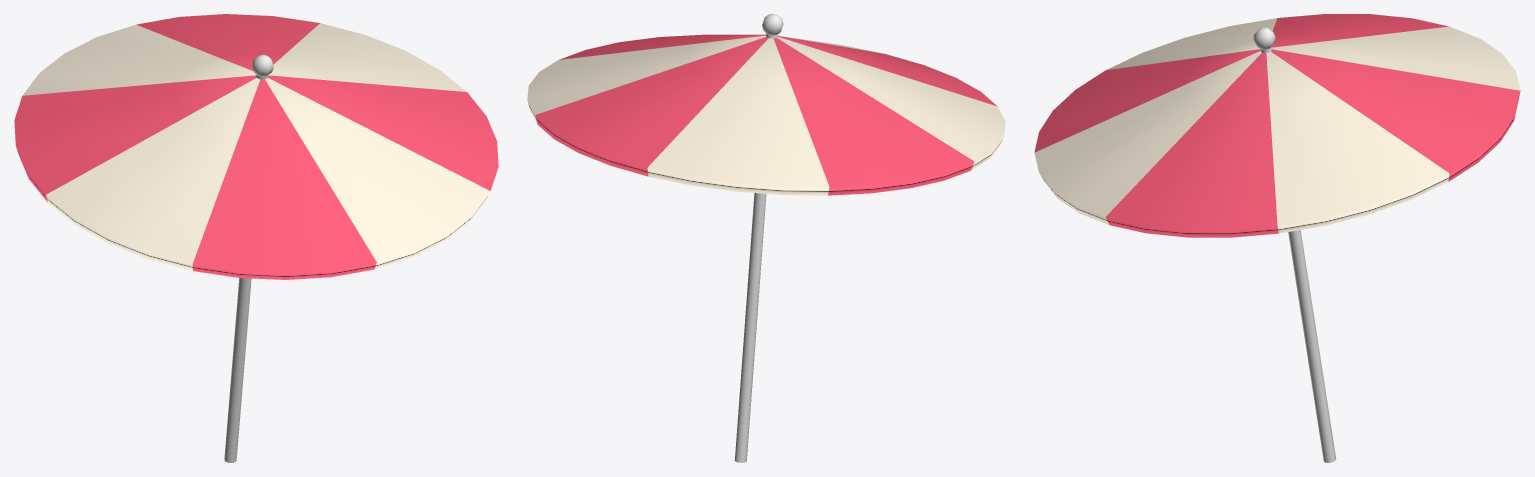
File: BumperParasol.obj
3 views of the same model, side by side, from view 1: azimuth 30°, elevation 25°; view 2: azimuth 150°, elevation 25°; view 3: azimuth 270°, elevation 25° (orthographic). The views are drawn at different scales.
Parts seen in each view (by area): view 1: CanopyB, CanopyA, Pole; view 2: CanopyA, CanopyB, Pole; view 3: CanopyA, CanopyB, Pole.
Boxes of the visible parts, x1,y1,x2,y2 form: CanopyB: [22, 23, 490, 270]; CanopyA: [14, 14, 498, 279]; Pole: [224, 54, 273, 462]; CanopyA: [535, 34, 996, 195]; CanopyB: [527, 35, 1005, 195]; Pole: [734, 14, 783, 462]; CanopyA: [1034, 14, 1520, 237]; CanopyB: [1034, 18, 1520, 233]; Pole: [1253, 27, 1336, 462].
Bounding box in the file's own units: 6.9 × 6.71 × 6.83.
